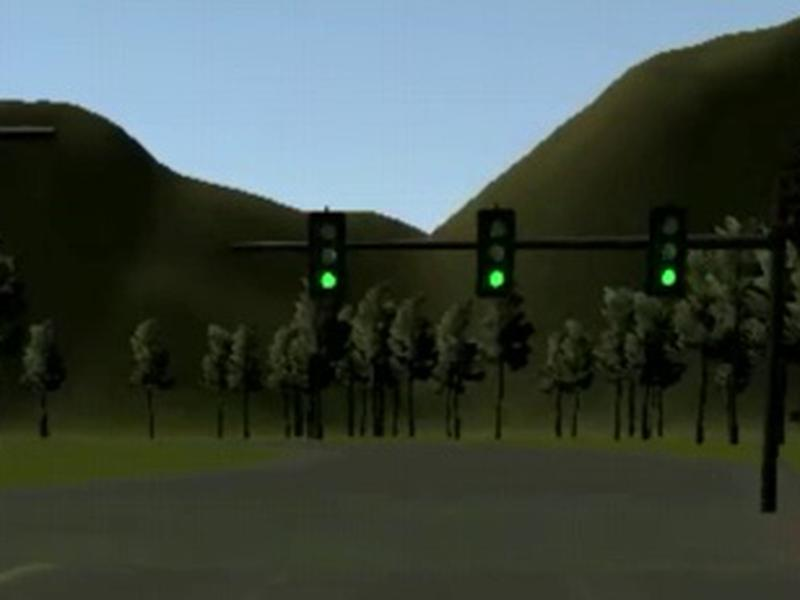Green: (648, 206, 688, 295), (477, 208, 516, 299), (308, 212, 347, 298)
